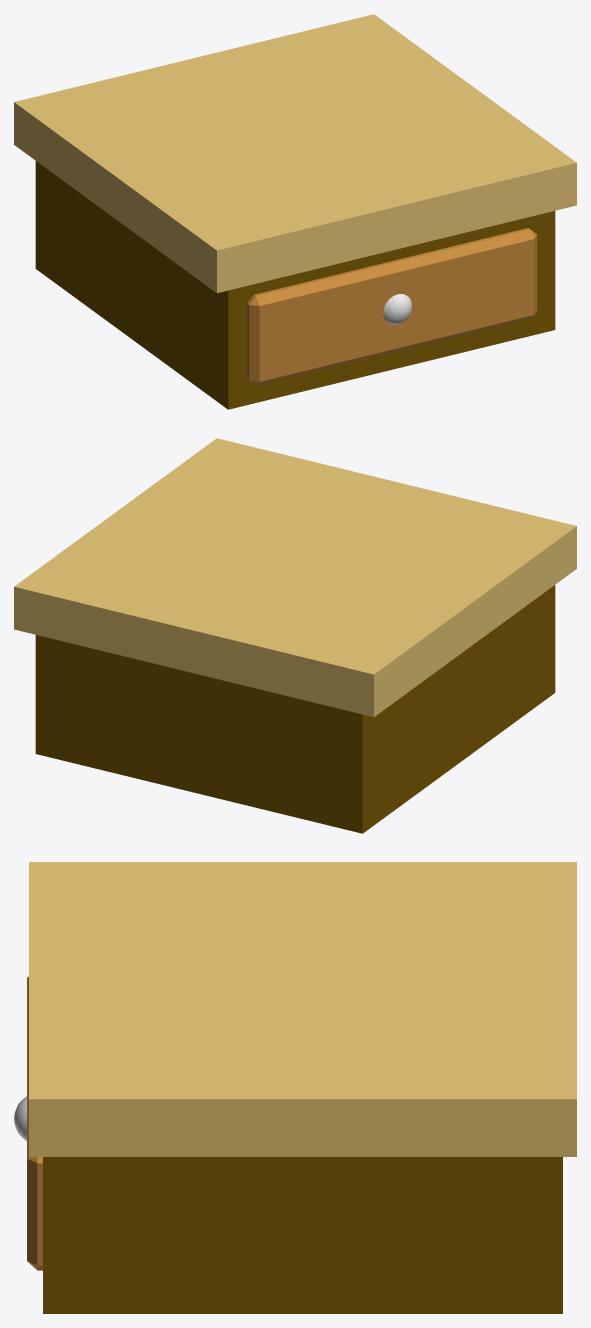
Rendered from BasicTable.fbx.
The picture shows the model from 3 angles, top to bottom: view 1: azimuth 30°, elevation 25°; view 2: azimuth 150°, elevation 25°; view 3: azimuth 270°, elevation 25°; orthographic projection. The views are drawn at different scales.
Visible parts, largest first — view 1: pCube5; view 2: pCube5; view 3: pCube5.
Part boxes in pixels (<box>): pCube5: <box>14,14,576,409</box>; pCube5: <box>14,438,576,833</box>; pCube5: <box>14,862,576,1313</box>.
Bounding box in the file's own units: 1.09 × 0.482 × 1.09.
